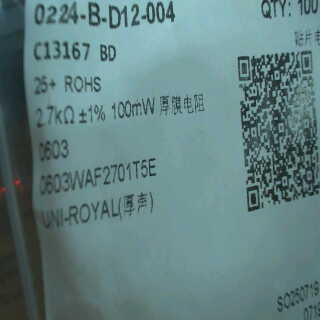2.7kR: (33, 99, 74, 128)
